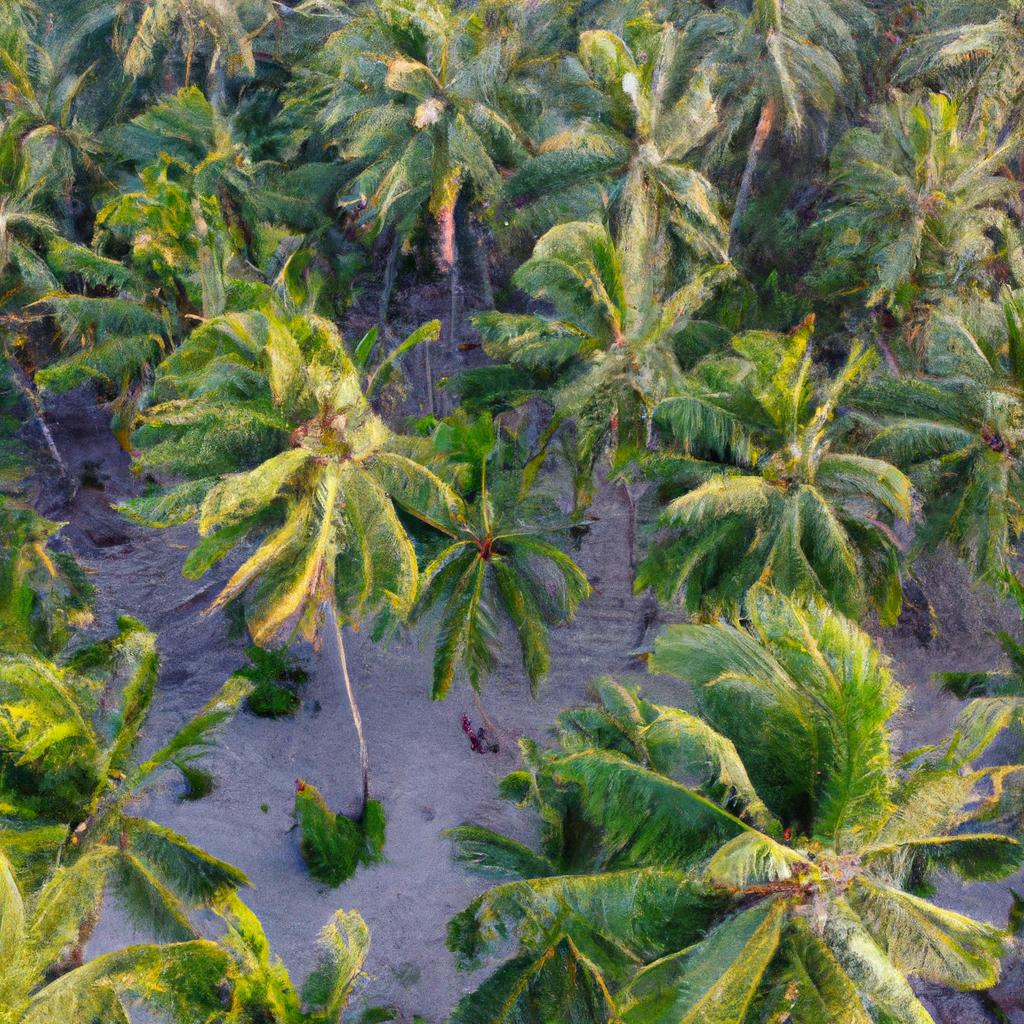coconut_tree: (529, 580, 986, 1023), (148, 331, 443, 637), (650, 310, 928, 612), (299, 4, 524, 235), (537, 29, 742, 272)
